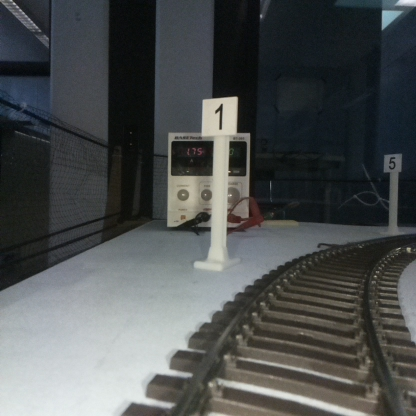white-info-1: (201, 97, 237, 269)
white-info-5: (384, 153, 401, 234)
